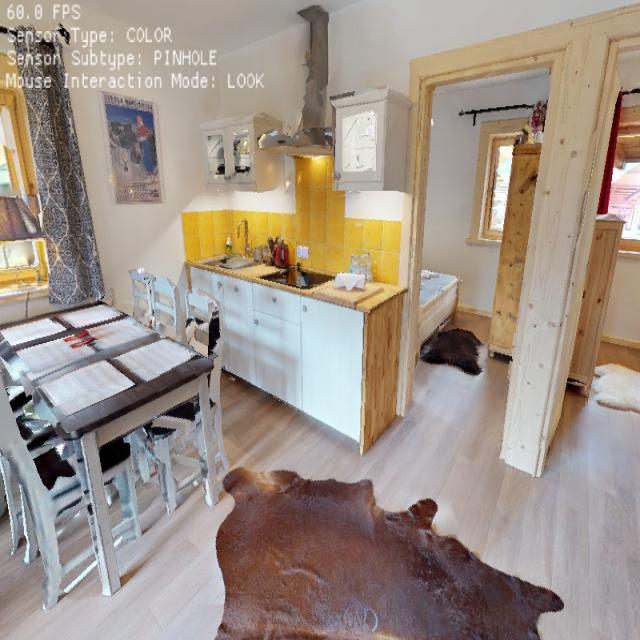chair: (0, 351, 118, 611), (131, 276, 238, 525)
door-frame: (402, 68, 545, 465)
sink: (214, 217, 257, 290)
table: (2, 278, 225, 594)
